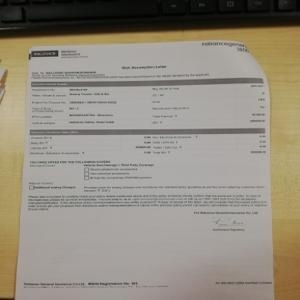image: (31, 49, 59, 58)
table: (27, 129, 266, 180), (28, 78, 268, 128)
text: (25, 193, 267, 209)
